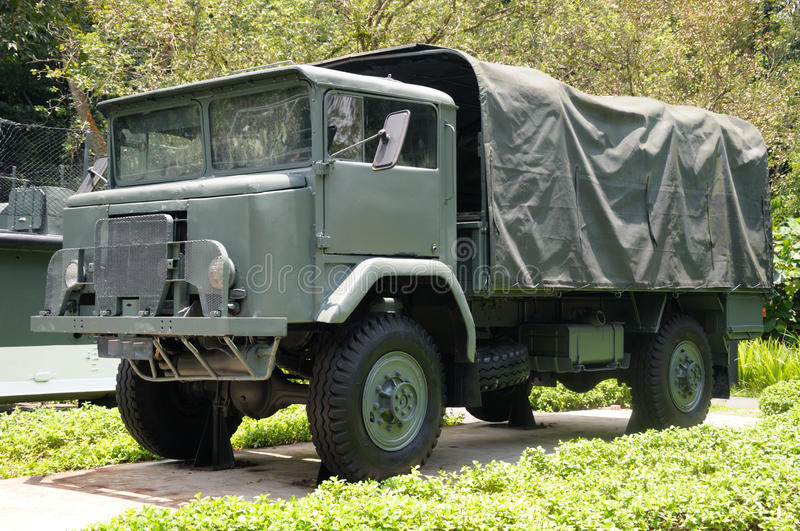camion: (52, 46, 773, 457)
